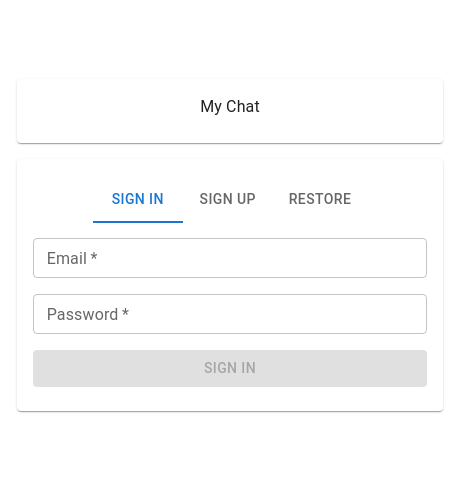
Test: SignUpForm › Invalid password
Step 1. Click the tab with test id "tab_btn-2" → (228, 199), box [183, 175, 273, 223]
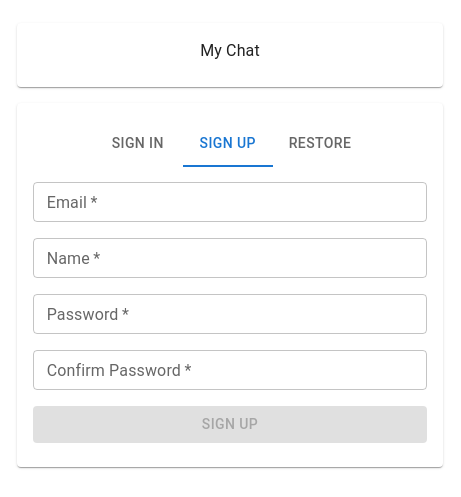
Expected: the form with test id "sign-up-form" is shown, [33, 182, 427, 443]
Step 2. Type "test" into the password field with test id "password-input" → (230, 314), box [33, 294, 427, 334]
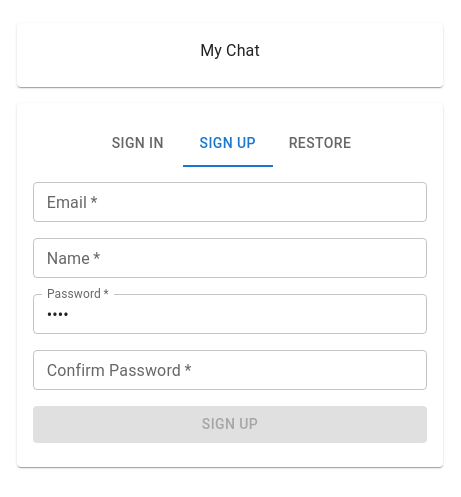
Step 3. Leave the password field with test id "password-input", box [33, 294, 427, 334]
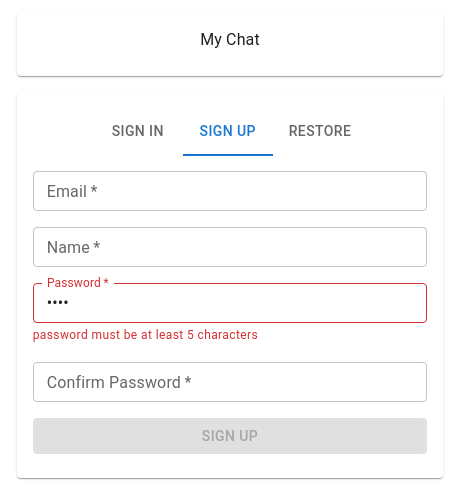
Expected: the button with test id "submit-btn" is disabled, [33, 418, 427, 454]
Expected: the text with test id "password-validation-message" is shown, [33, 328, 258, 342]
